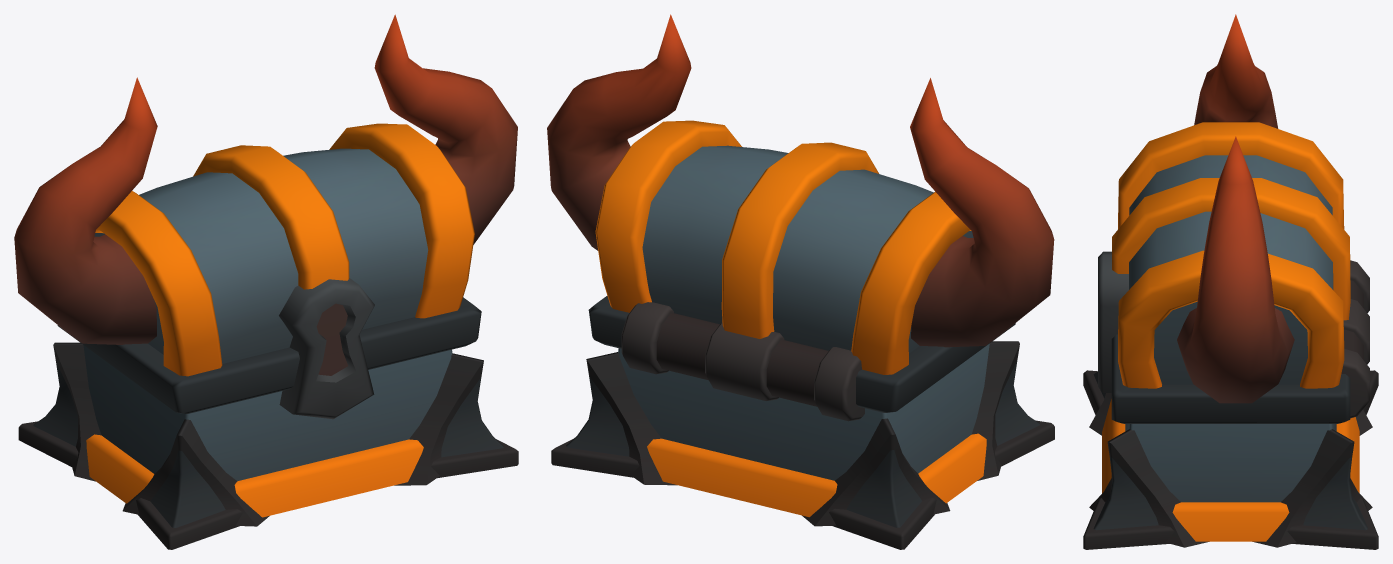
Rendered from ChestBig_001.glb.
The picture shows the model from 3 angles, left to right: view 1: azimuth 30°, elevation 25°; view 2: azimuth 150°, elevation 25°; view 3: azimuth 270°, elevation 25°; orthographic projection. The views are drawn at different scales.
Parts seen in each view (by area): view 1: Lid_002, ChestBig_001; view 2: Lid_002, ChestBig_001; view 3: Lid_002, ChestBig_001.
Part boxes in pixels (x1,y1,x2,y2): Lid_002: [14, 14, 517, 419]; ChestBig_001: [18, 342, 518, 549]; Lid_002: [547, 14, 1054, 421]; ChestBig_001: [551, 341, 1054, 549]; Lid_002: [1098, 14, 1369, 423]; ChestBig_001: [1083, 370, 1378, 549].
Bounding box in the file's own units: 3.32 × 2.64 × 1.79.
Materials: 3 (3 with a texture image).
